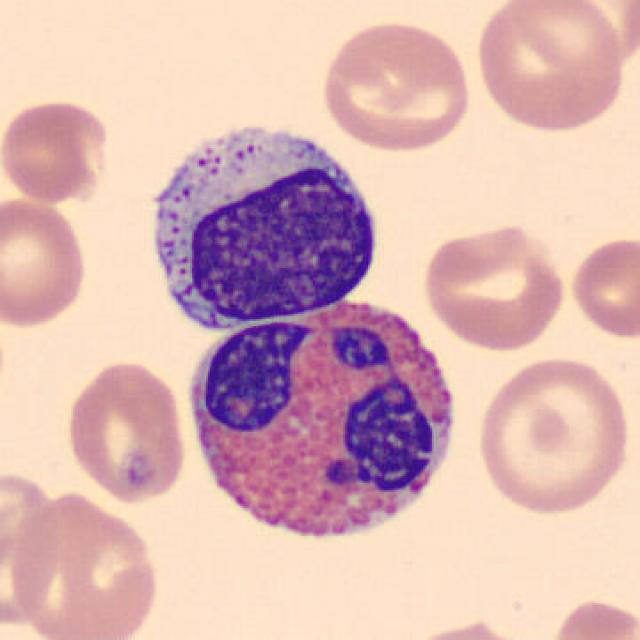Eosinophil: (180, 288, 471, 562)
Monocyte: (137, 107, 386, 344)
RBC: (471, 353, 635, 518), (7, 486, 163, 640), (316, 14, 474, 155), (470, 0, 628, 136), (420, 220, 570, 352), (62, 356, 190, 508), (0, 95, 114, 206), (0, 194, 91, 331), (0, 469, 64, 635), (566, 233, 638, 342), (530, 0, 640, 71), (542, 594, 640, 640), (396, 615, 538, 640)
